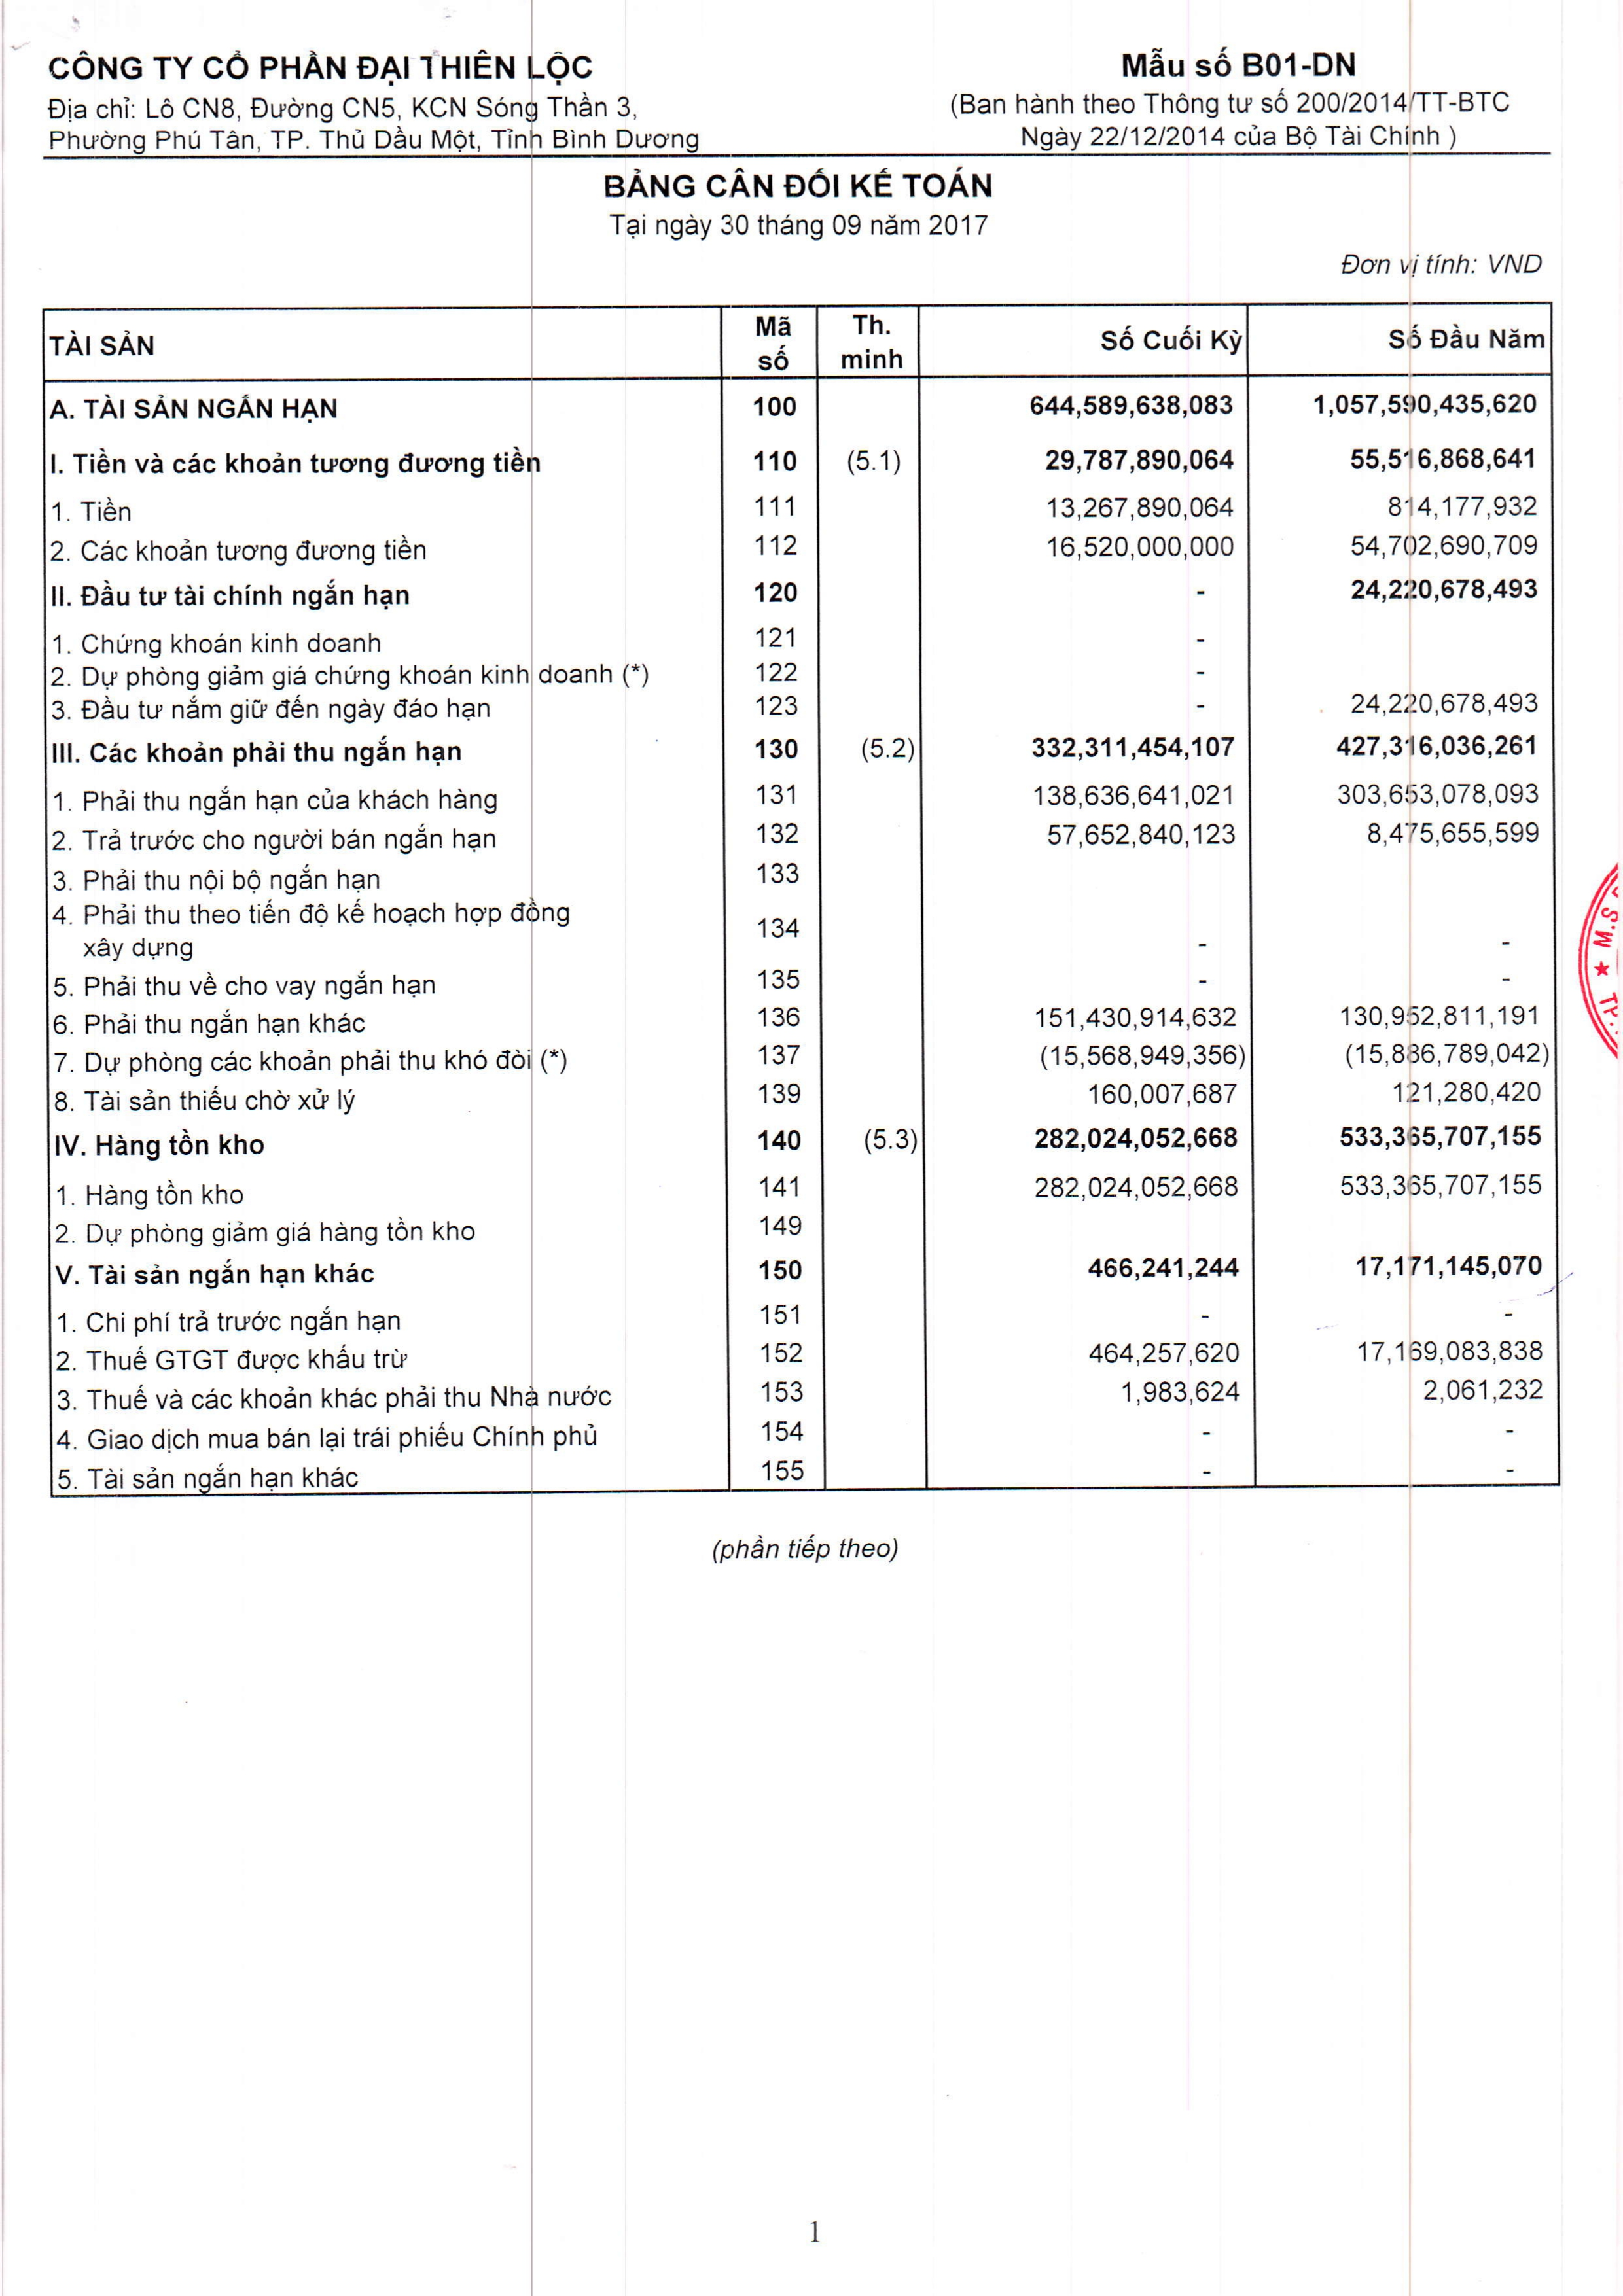table: (33, 291, 1569, 1504)
table column: (49, 291, 678, 1504), (999, 291, 1254, 1504), (1309, 291, 1554, 1504), (836, 291, 924, 1504), (736, 291, 817, 1504)
table column header: (35, 305, 1569, 386)
table row: (33, 892, 1569, 957), (33, 312, 1569, 376), (33, 439, 1569, 488), (33, 384, 1569, 432), (33, 491, 1569, 532), (33, 618, 1569, 658), (33, 534, 1569, 572), (33, 576, 1569, 614), (33, 1246, 1569, 1283), (33, 1450, 1569, 1487), (33, 690, 1569, 725), (33, 730, 1569, 765), (33, 781, 1569, 816), (33, 820, 1569, 855), (33, 855, 1569, 890), (33, 958, 1569, 994), (33, 997, 1569, 1032), (33, 1037, 1569, 1073), (33, 1076, 1569, 1111), (33, 1120, 1569, 1155), (33, 1167, 1569, 1202), (33, 1206, 1569, 1241), (33, 1294, 1569, 1329), (33, 1334, 1569, 1369), (33, 1373, 1569, 1408), (33, 1411, 1569, 1446), (33, 660, 1569, 688)
